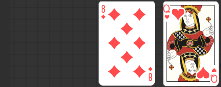10D: (147, 66, 154, 83)
